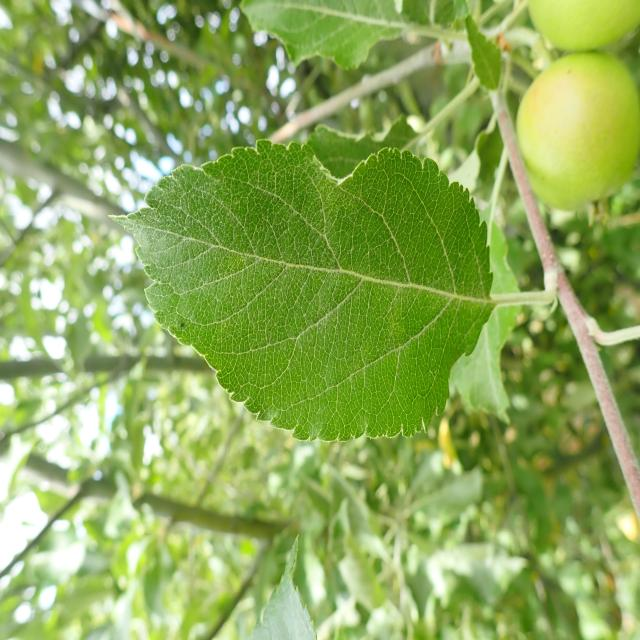healthy: (107, 138, 497, 443)
